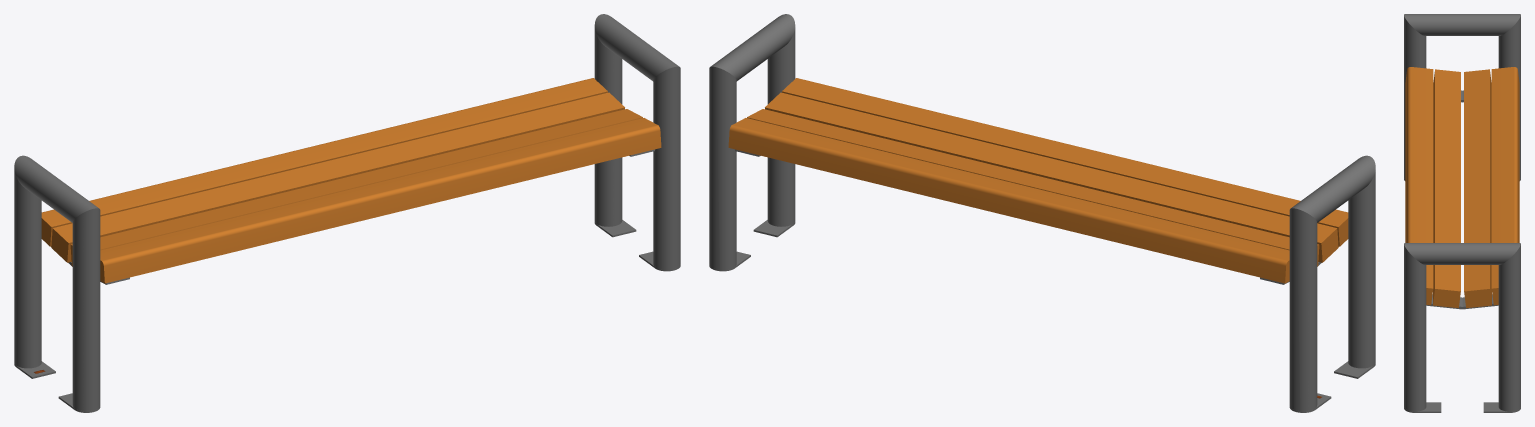
The picture shows the model from 3 angles, left to right: view 1: azimuth 30°, elevation 25°; view 2: azimuth 150°, elevation 25°; view 3: azimuth 270°, elevation 25°; orthographic projection. The views are drawn at different scales.
Parts seen in each view (by area): view 1: mesh1_mesh1-geometry, mesh16_mesh16-geometry, mesh4_mesh4-geometry, mesh25_mesh25-geometry, mesh2_mesh2-geometry, mesh3_mesh3-geometry; view 2: mesh2_mesh2-geometry, mesh16_mesh16-geometry, mesh3_mesh3-geometry, mesh25_mesh25-geometry, mesh1_mesh1-geometry, mesh4_mesh4-geometry; view 3: mesh25_mesh25-geometry, mesh3_mesh3-geometry, mesh4_mesh4-geometry, mesh1_mesh1-geometry, mesh2_mesh2-geometry, mesh16_mesh16-geometry, mesh21_mesh21-geometry, mesh23_mesh23-geometry, mesh9_mesh9-geometry.
Part boxes in pixels (bbox=[...]): mesh1_mesh1-geometry: bbox=[100, 118, 661, 283]; mesh16_mesh16-geometry: bbox=[14, 155, 100, 411]; mesh4_mesh4-geometry: bbox=[51, 92, 624, 262]; mesh25_mesh25-geometry: bbox=[594, 14, 680, 269]; mesh2_mesh2-geometry: bbox=[41, 78, 607, 246]; mesh3_mesh3-geometry: bbox=[70, 109, 642, 266]; mesh2_mesh2-geometry: bbox=[728, 118, 1289, 283]; mesh16_mesh16-geometry: bbox=[1289, 155, 1375, 411]; mesh3_mesh3-geometry: bbox=[765, 92, 1338, 262]; mesh25_mesh25-geometry: bbox=[709, 14, 795, 269]; mesh1_mesh1-geometry: bbox=[782, 78, 1348, 246]; mesh4_mesh4-geometry: bbox=[747, 109, 1319, 266]; mesh25_mesh25-geometry: bbox=[1404, 243, 1520, 411]; mesh3_mesh3-geometry: bbox=[1433, 69, 1460, 308]; mesh4_mesh4-geometry: bbox=[1464, 69, 1491, 308]; mesh1_mesh1-geometry: bbox=[1405, 67, 1433, 305]; mesh2_mesh2-geometry: bbox=[1491, 67, 1519, 305]; mesh16_mesh16-geometry: bbox=[1404, 14, 1520, 179]; mesh21_mesh21-geometry: bbox=[1483, 402, 1520, 412]; mesh23_mesh23-geometry: bbox=[1404, 402, 1441, 412]; mesh9_mesh9-geometry: bbox=[1426, 294, 1498, 309].
Size of the model in its own units: 0.934 by 0.3004 by 0.1935.
